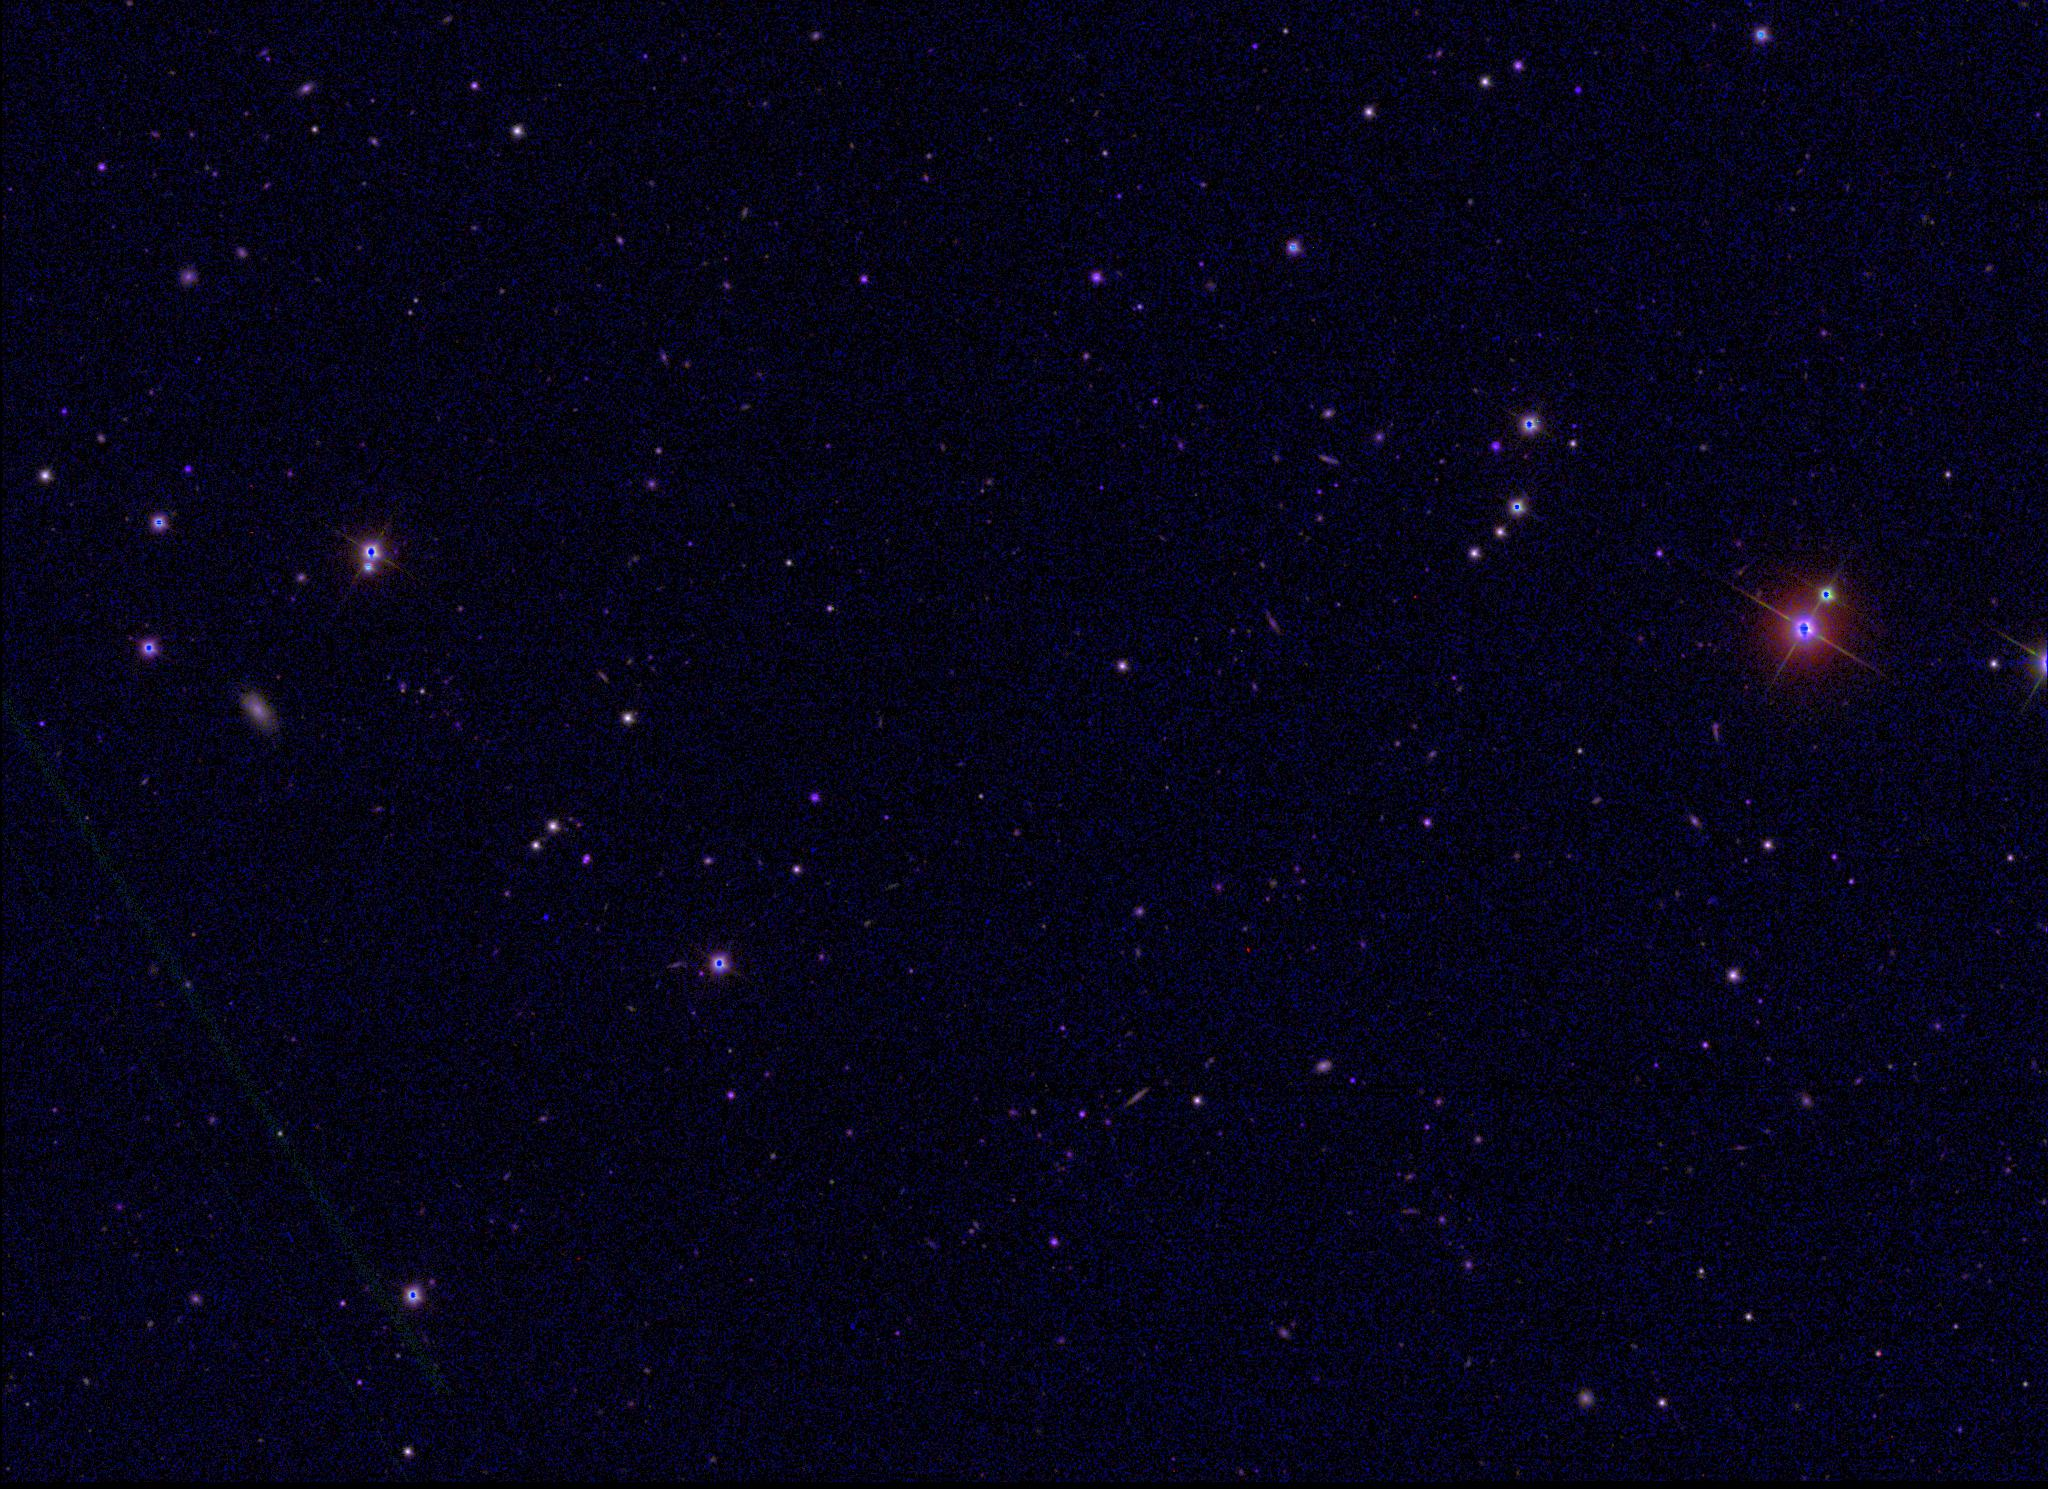L: (539, 910, 553, 924)
